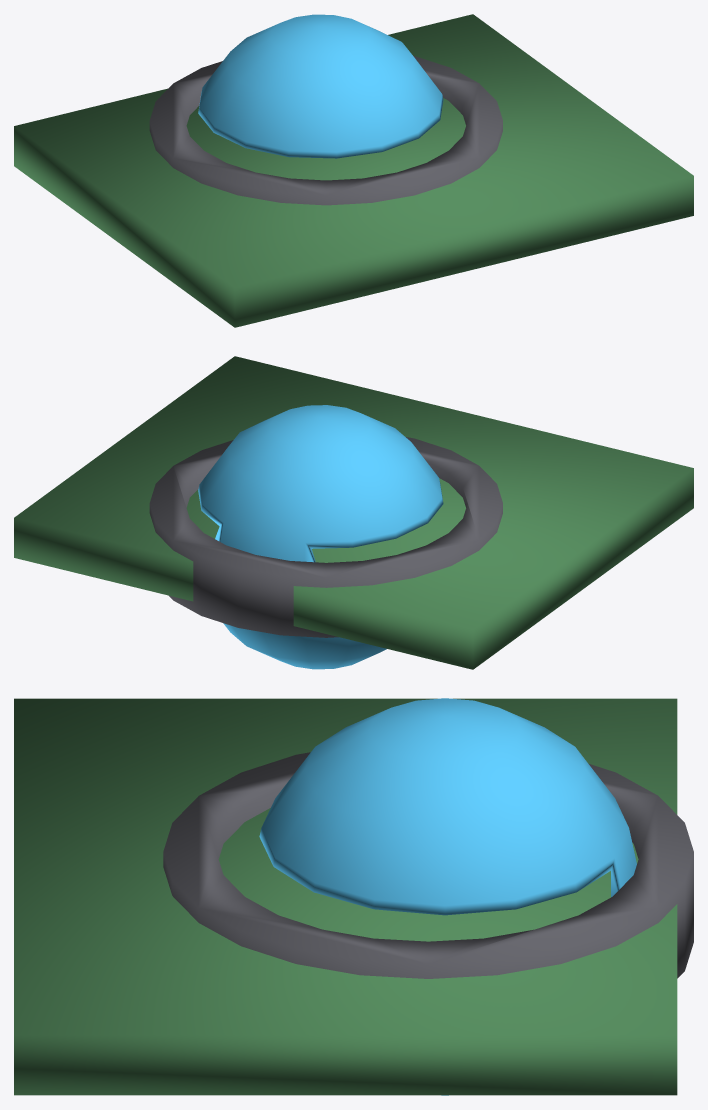
File: VCell_StatusLED.glb
The picture shows the model from 3 angles, top to bottom: view 1: azimuth 30°, elevation 25°; view 2: azimuth 150°, elevation 25°; view 3: azimuth 270°, elevation 25°; orthographic projection. The views are drawn at different scales.
Visible parts, largest first — view 1: VCell_StatusLED; view 2: VCell_StatusLED; view 3: VCell_StatusLED.
Boxes of the visible parts, <box> form: VCell_StatusLED: <box>14,14,693,327</box>; VCell_StatusLED: <box>14,356,693,669</box>; VCell_StatusLED: <box>14,698,693,1095</box>.
Bounding box in the file's own units: 0.012 × 0.006 × 0.0103.
